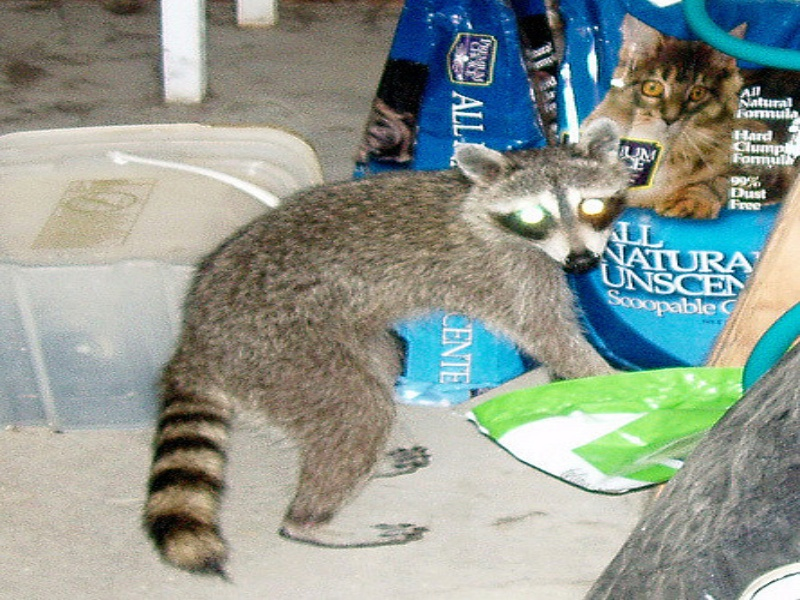cat: (580, 18, 781, 228)
raccoon: (140, 118, 626, 579)
